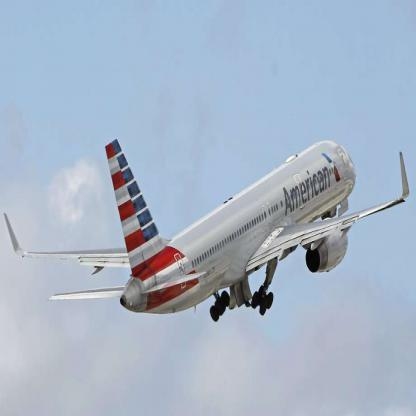CIV_Plane: (5, 132, 413, 329)
